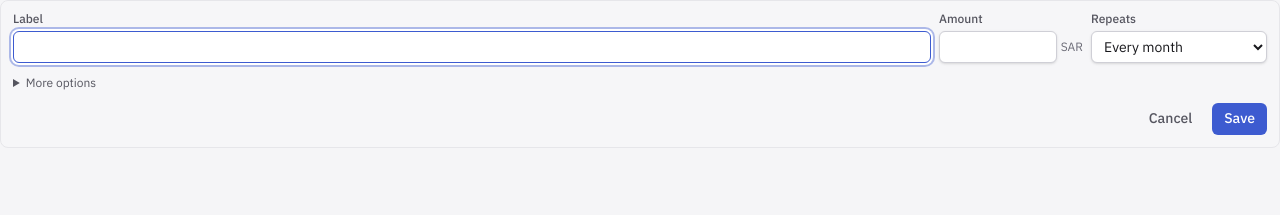
Test: ItemForm › validates label and amount
Click the button "Save" at (1240, 119), box 1212,103 -> 1267,135
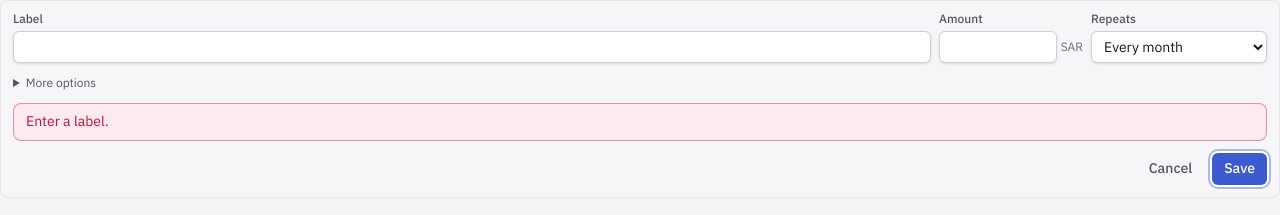
Result: the message reads "Enter a label." at 26,111 -> 109,132
Type "Rent" into the field labelled "Label" at (472, 47), box 13,31 -> 931,63
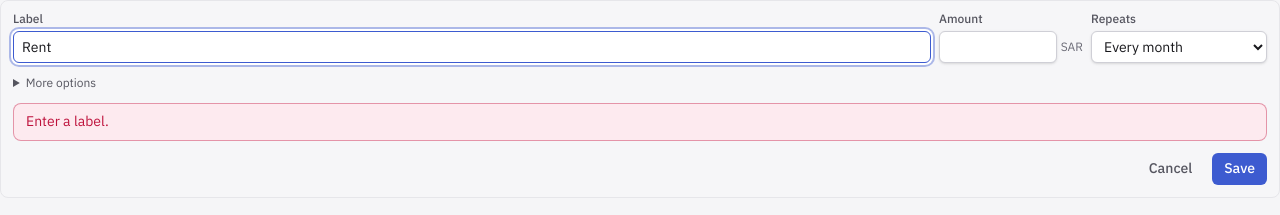
Click the button "Save" at (1240, 169), box 1212,153 -> 1267,185
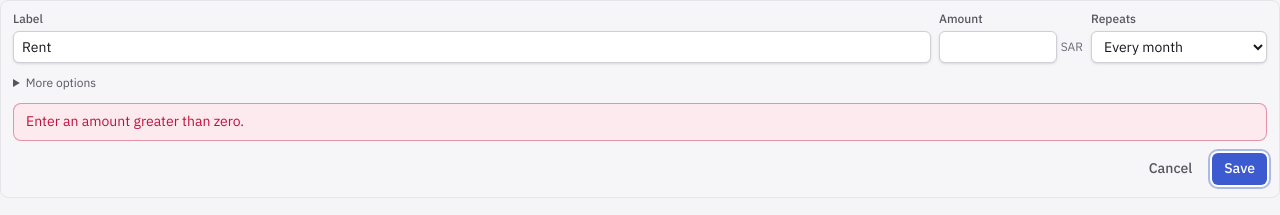
Result: the message reads "Enter an amount greater than zero." at 26,111 -> 244,132
